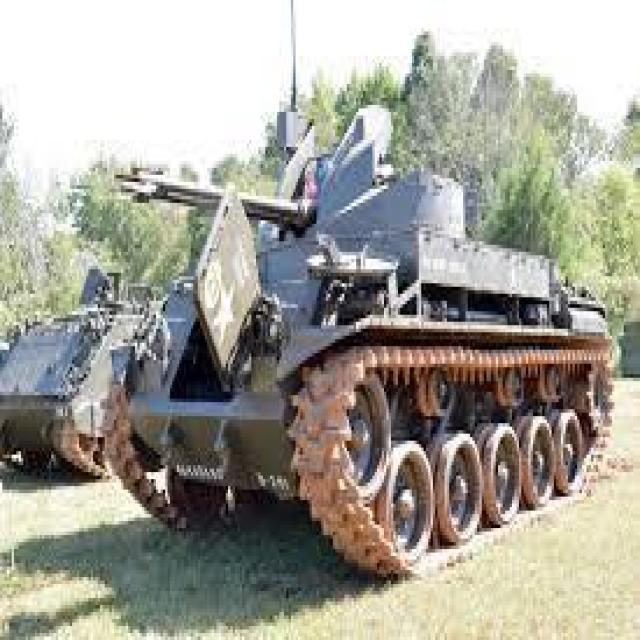Tanks: (107, 144, 617, 580), (2, 271, 112, 484)
